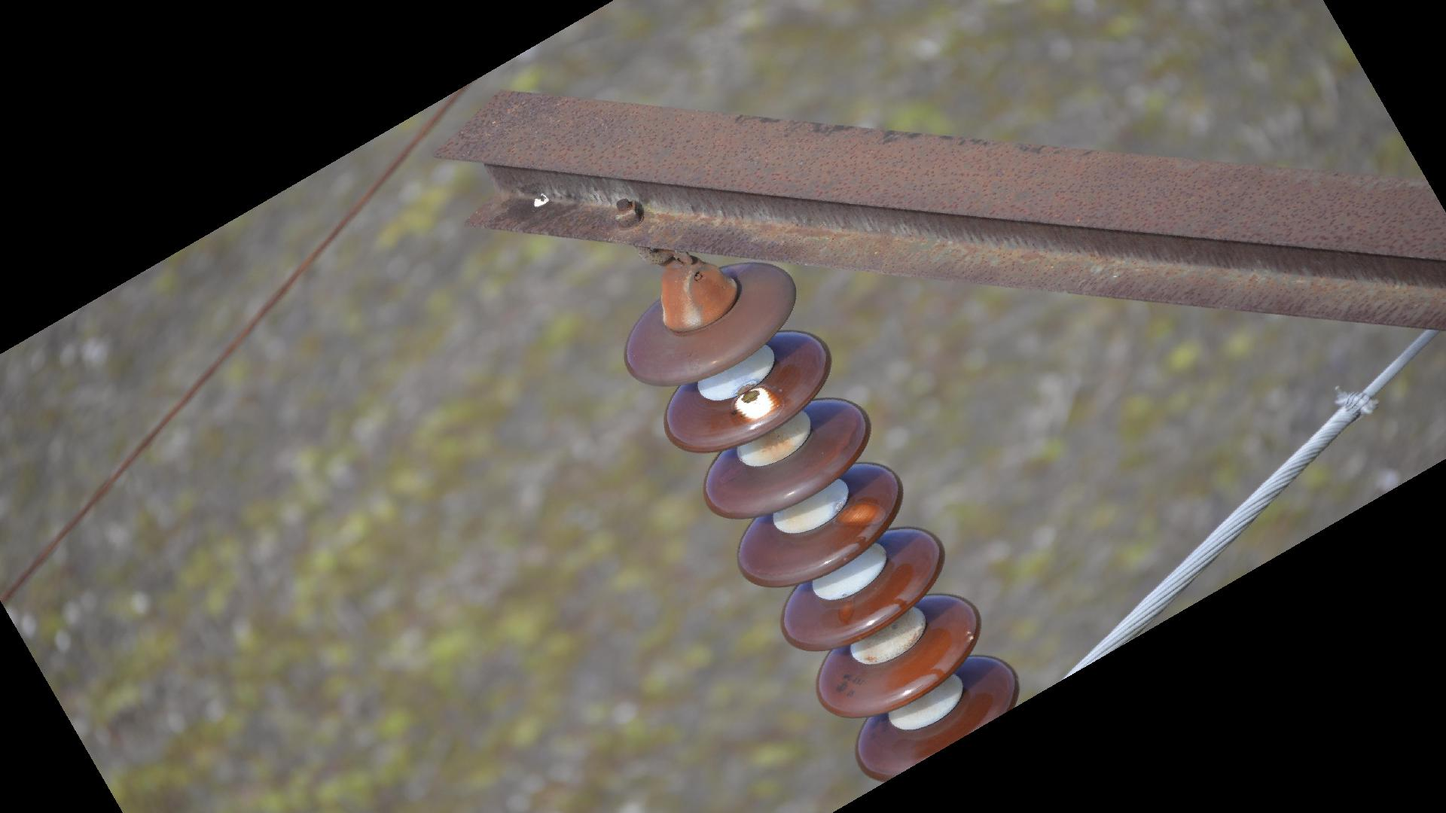insulator: (616, 254, 1027, 789)
insulator_flashover: (731, 383, 784, 425), (836, 497, 890, 531)
